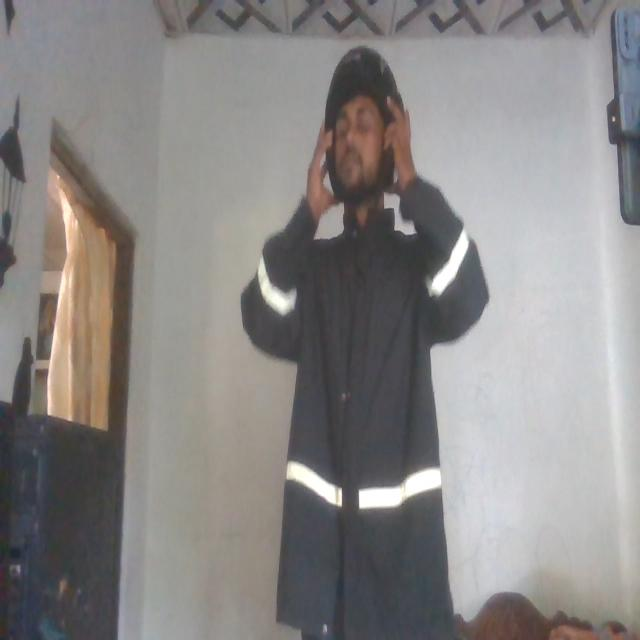Helmet_Wearer: (321, 55, 403, 208)
Jacket_Wearer: (236, 188, 488, 640)
Person: (248, 47, 482, 640)
